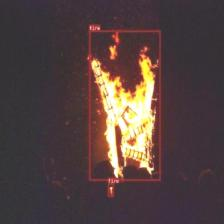fire: (88, 30, 160, 181), (108, 182, 113, 196)
